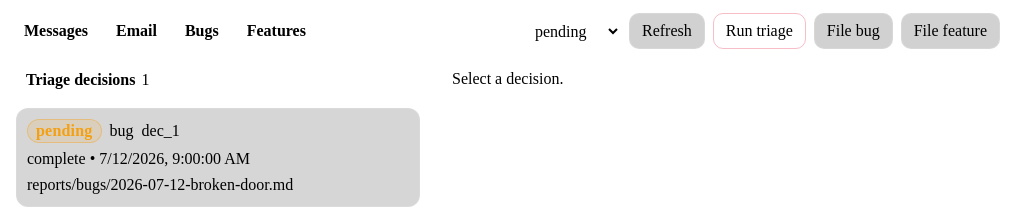
Scenario: ReportInboxPage › lists feature requests on the Features tab
The image size is (1016, 224).
Expected: the text "reports/bugs/2026-07-12-broken-door.md" is shown, [27,176,293,193]
Click the button "Features" at x=276, y=31, box [234,15,319,47]
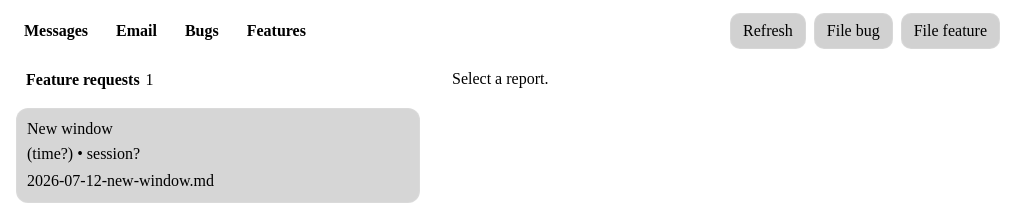
Result: the text "New window" is shown at [27,119,113,138]
